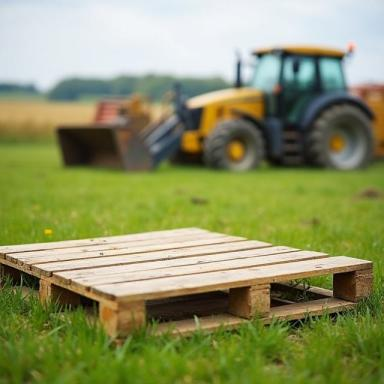pallet: (0, 226, 374, 348)
